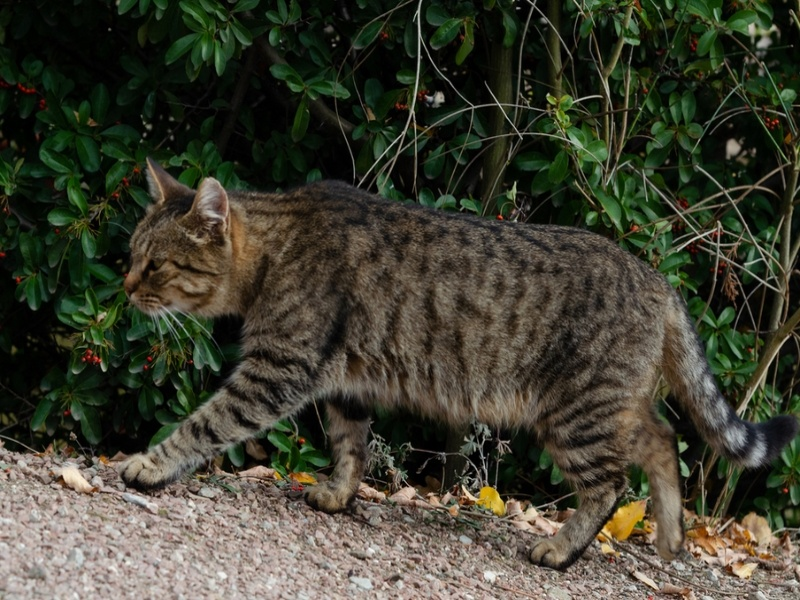cat: (120, 156, 784, 572)
